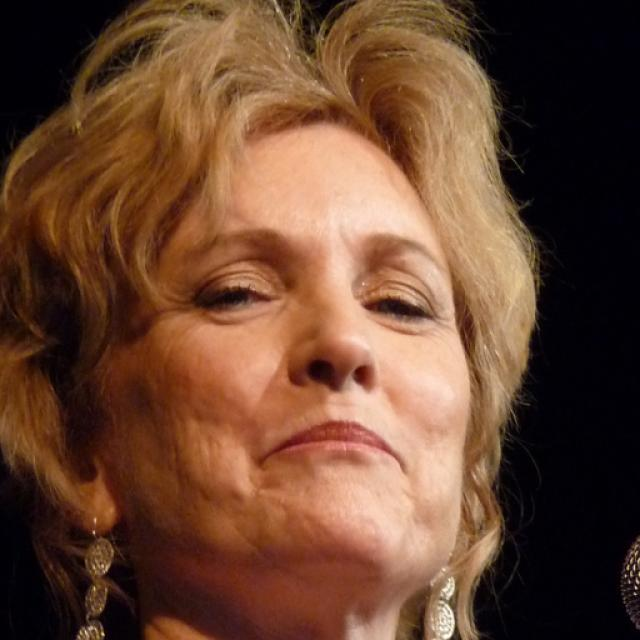content: (109, 97, 474, 568)
